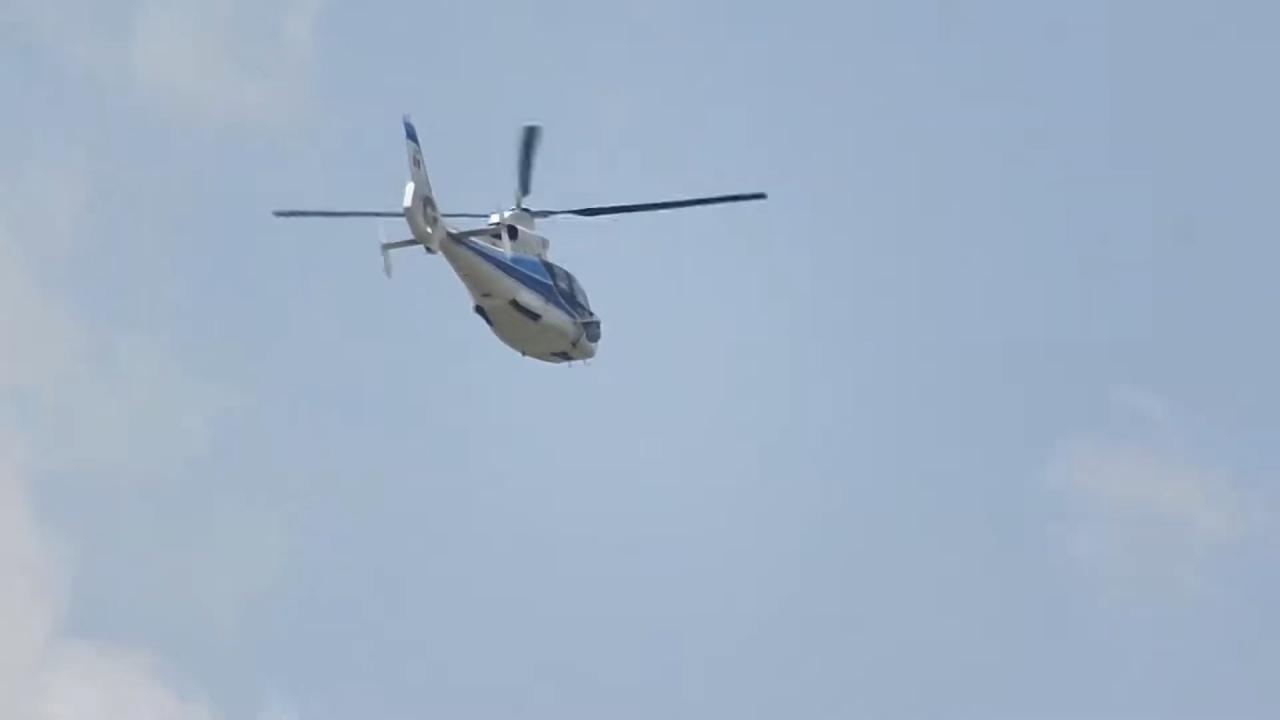Helicopter: (246, 72, 784, 415)
